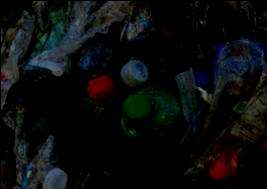Plastic: (115, 72, 205, 173)
